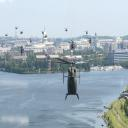helicopter: (49, 59, 97, 99), (68, 41, 78, 50), (19, 45, 27, 55), (88, 38, 94, 44), (29, 39, 35, 44), (85, 32, 91, 36), (20, 31, 25, 35), (65, 28, 69, 32), (16, 27, 19, 31), (6, 35, 10, 38), (42, 32, 46, 34), (46, 36, 48, 39)
